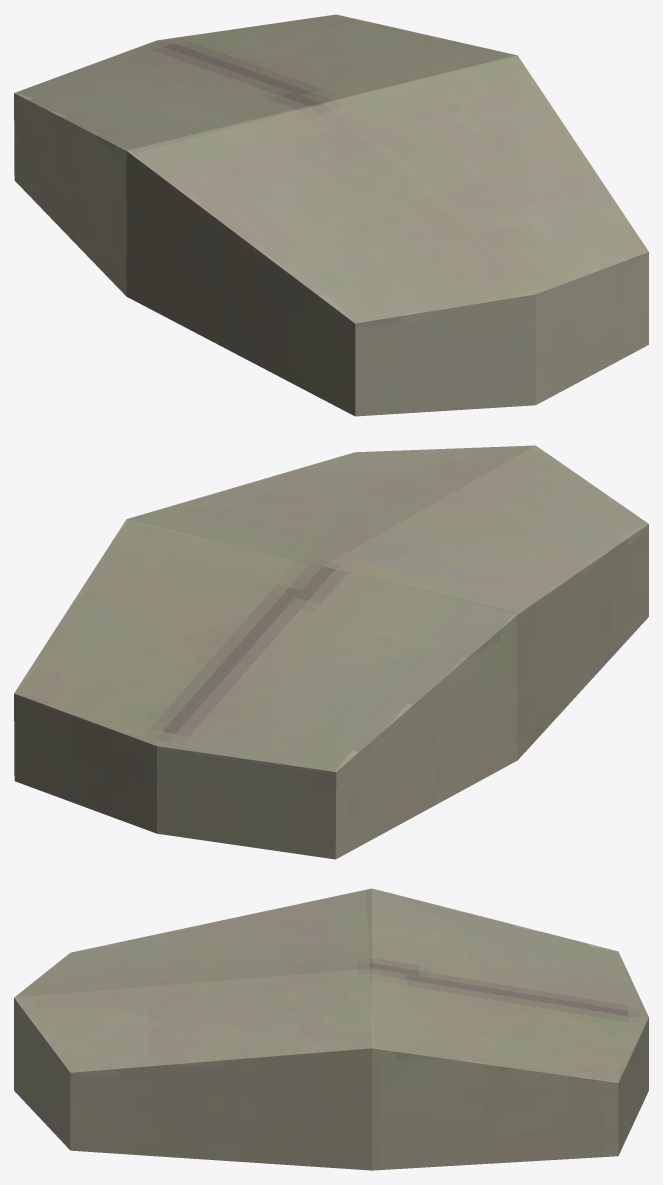
The model's file is Computer Mouse.glb.
3 views of the same model, one above another, from view 1: azimuth 30°, elevation 25°; view 2: azimuth 150°, elevation 25°; view 3: azimuth 270°, elevation 25° (orthographic). The views are drawn at different scales.
Parts seen in each view (by area): view 1: Mouse; view 2: Mouse; view 3: Mouse.
Boxes of the visible parts, box(x1,y1,x2,y2) form: Mouse: box(14, 14, 648, 416); Mouse: box(14, 445, 648, 859); Mouse: box(14, 888, 648, 1170).
Size of the model in its own units: 0.1 by 0.0356 by 0.1677.
Materials: 1 (1 with a texture image).
